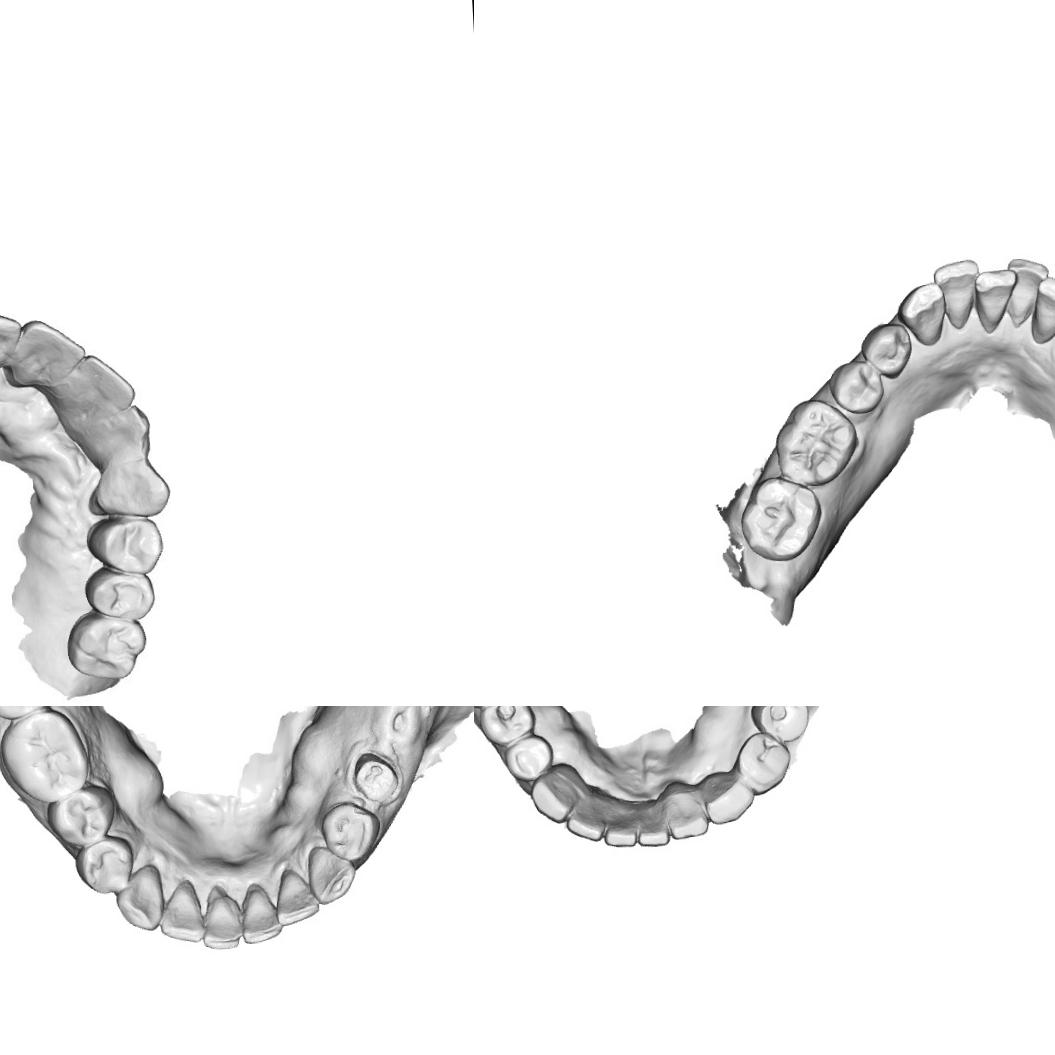canine: (90, 452, 172, 526), (303, 841, 357, 908), (114, 862, 164, 934), (898, 280, 948, 350), (702, 770, 756, 826), (528, 768, 578, 826)
crown: (350, 748, 403, 808)
incisor: (2, 307, 79, 391), (78, 398, 168, 458), (54, 352, 132, 420), (1004, 255, 1054, 329), (930, 258, 981, 330), (158, 878, 207, 946), (972, 266, 1020, 334), (235, 882, 283, 945), (197, 887, 243, 950), (273, 866, 319, 927), (1025, 273, 1055, 344), (0, 307, 32, 372), (667, 795, 709, 840), (564, 801, 608, 843), (601, 808, 639, 848), (634, 808, 672, 847)
molar: (0, 707, 93, 808), (770, 395, 861, 489), (736, 472, 824, 564), (65, 611, 145, 683)
premolar: (83, 514, 165, 580), (46, 783, 116, 850), (86, 564, 164, 623), (72, 834, 138, 897), (319, 799, 381, 866), (734, 729, 792, 797), (828, 357, 887, 418), (859, 318, 913, 381), (502, 732, 555, 784), (476, 706, 537, 747), (747, 706, 810, 744)
